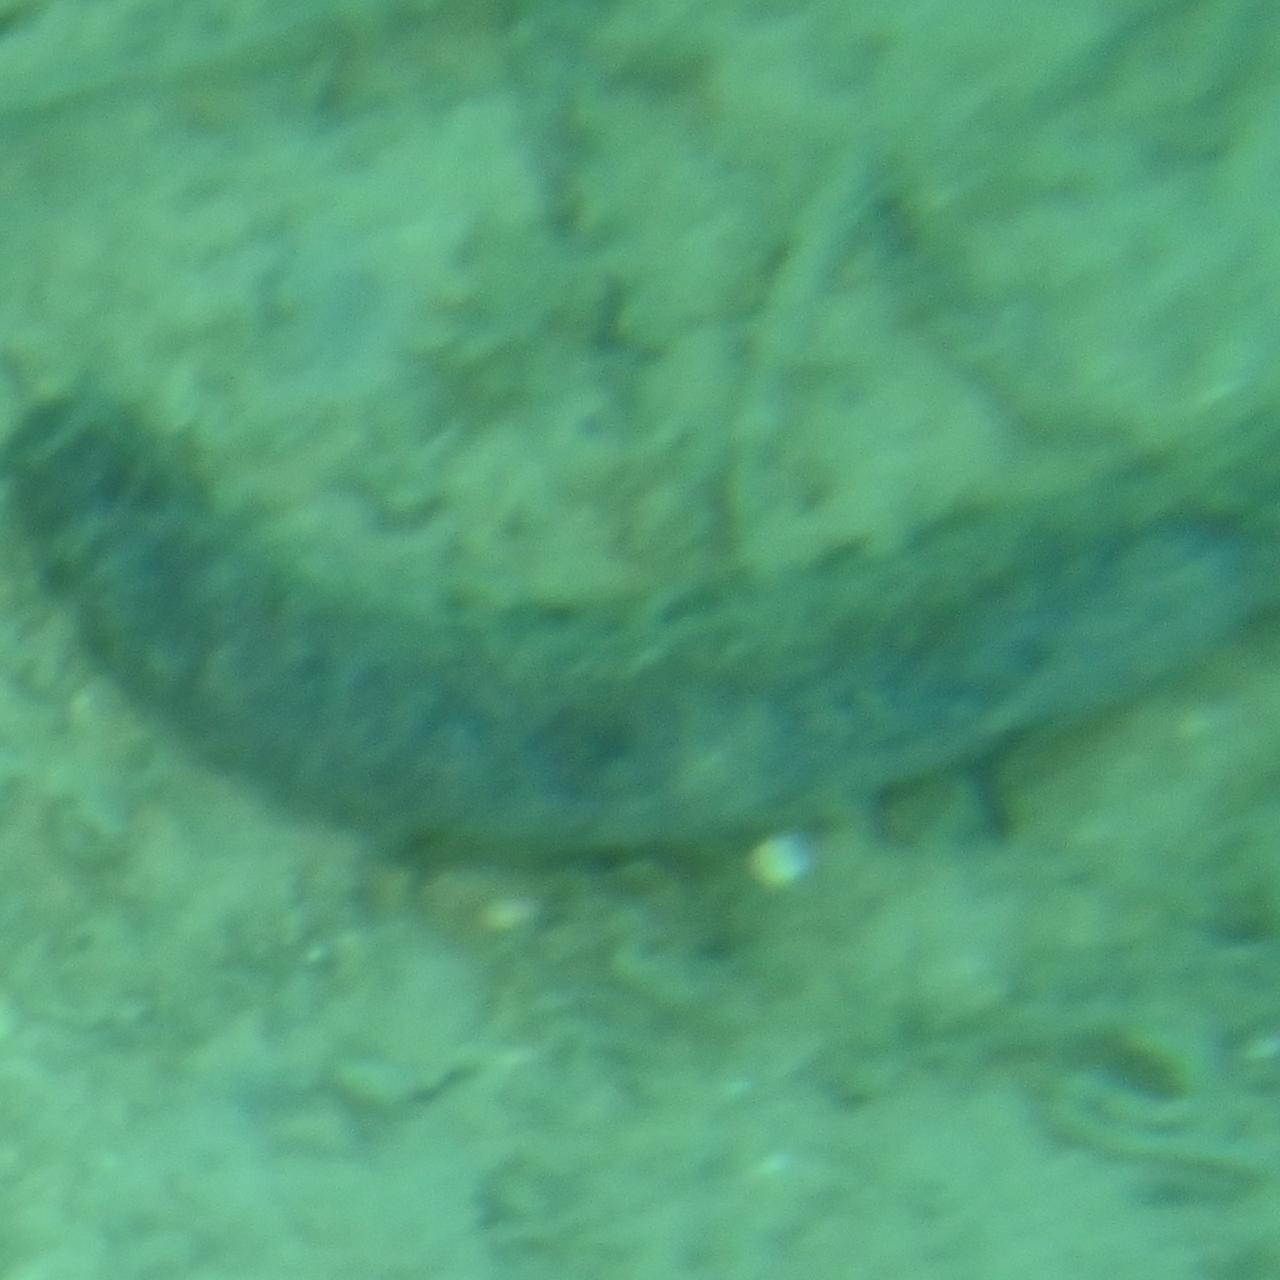Holothuria tubulosa: (5, 380, 1280, 883)
